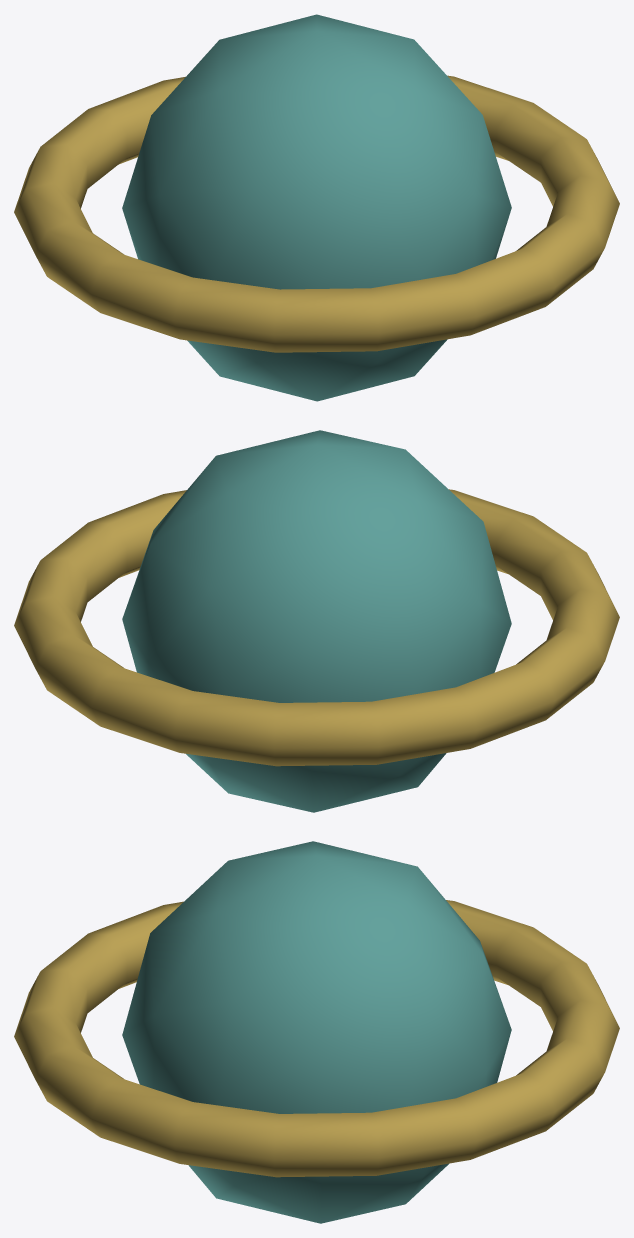
Rendered from off_08_wind_chime.glb.
The picture shows the model from 3 angles, top to bottom: view 1: azimuth 30°, elevation 25°; view 2: azimuth 150°, elevation 25°; view 3: azimuth 270°, elevation 25°; orthographic projection.
Parts seen in each view (by area): view 1: focus_core, focus_ring; view 2: focus_core, focus_ring; view 3: focus_core, focus_ring.
Part boxes in pixels (x1,y1,x2,y2): focus_core: (122,14,511,401); focus_ring: (14,75,619,352); focus_core: (122,430,511,812); focus_ring: (14,489,619,766); focus_core: (122,841,511,1223); focus_ring: (14,900,619,1177).
Size of the model in its own units: 0.5544 by 0.36 by 0.5597.
